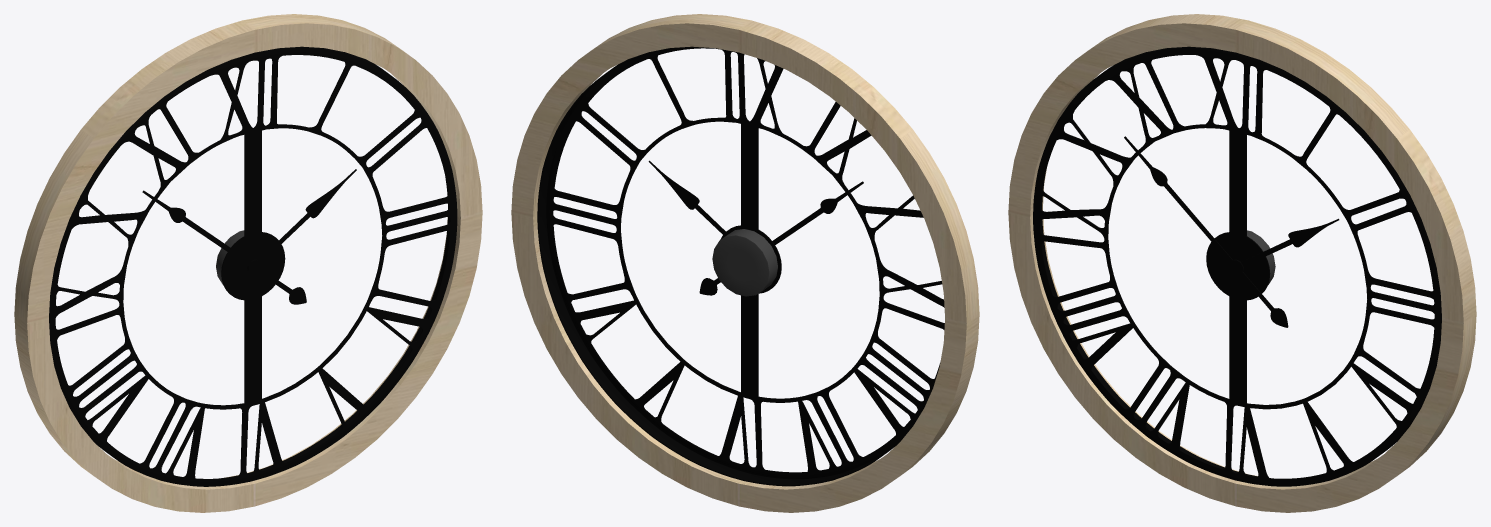
The picture shows the model from 3 angles, left to right: view 1: azimuth 30°, elevation 25°; view 2: azimuth 150°, elevation 25°; view 3: azimuth 330°, elevation 25°; orthographic projection.
Parts seen in each view (by area): view 1: Object003_wood_0, Shape1_painted metal_0, Object002_painted metal_0, Object001_painted metal_0; view 2: Object003_wood_0, Shape1_painted metal_0, Cylinder002, Object002_painted metal_0, Object001_painted metal_0; view 3: Object003_wood_0, Shape1_painted metal_0, Object002_painted metal_0, Object001_painted metal_0.
Part boxes in pixels (x1=…): Object003_wood_0: x1=14, y1=14, x2=482, y2=512; Shape1_painted metal_0: x1=49, y1=46, x2=457, y2=486; Object002_painted metal_0: x1=142, y1=190, x2=306, y2=304; Object001_painted metal_0: x1=247, y1=169, x2=356, y2=272; Object003_wood_0: x1=511, y1=14, x2=979, y2=512; Shape1_painted metal_0: x1=537, y1=46, x2=944, y2=486; Cylinder002: x1=712, y1=229, x2=777, y2=296; Object002_painted metal_0: x1=699, y1=181, x2=863, y2=295; Object001_painted metal_0: x1=648, y1=160, x2=725, y2=234; Object003_wood_0: x1=1008, y1=14, x2=1476, y2=512; Shape1_painted metal_0: x1=1033, y1=46, x2=1441, y2=486; Object002_painted metal_0: x1=1124, y1=136, x2=1288, y2=327; Object001_painted metal_0: x1=1233, y1=218, x2=1339, y2=271.
Bounding box in the file's own units: 0.2056 × 0.2056 × 0.01.
Materials: 4 (1 with a texture image).
